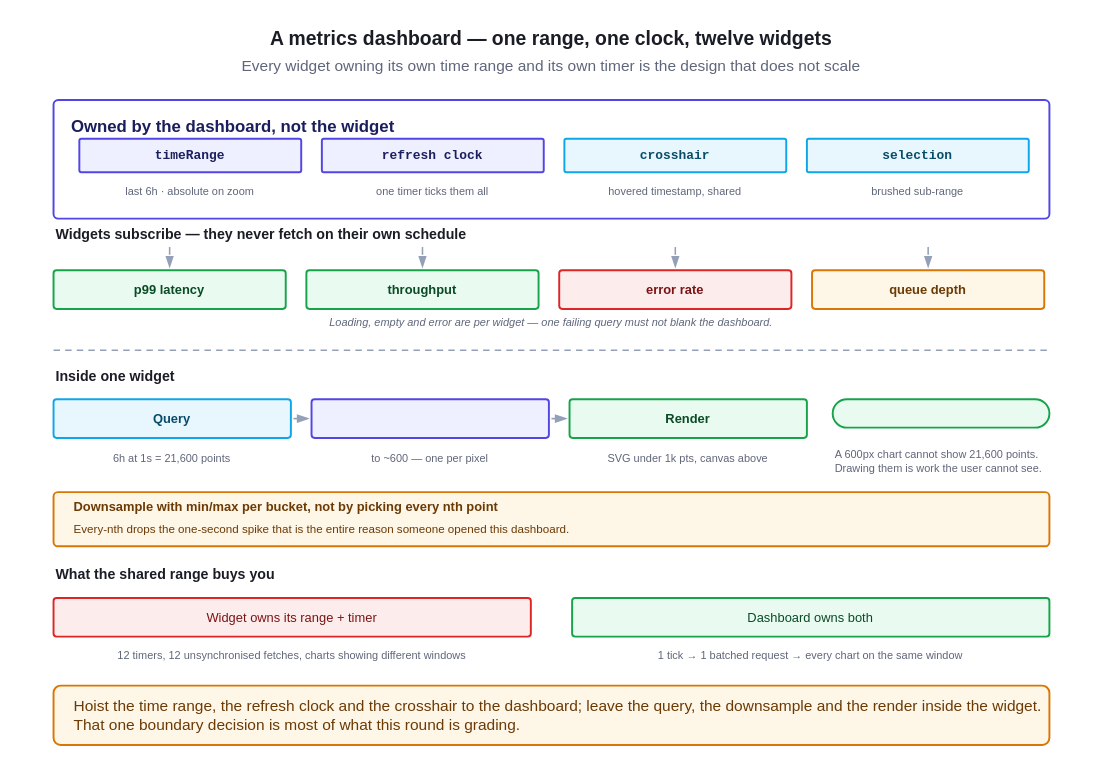
This 1102x768 diagram has some shape labels left out. The shapes that lost their labels are listed below. From the top down, each one's centre as x and y in pixels, then its label:
the point at 429,418: Downsample
the point at 940,413: 36× fewer points
